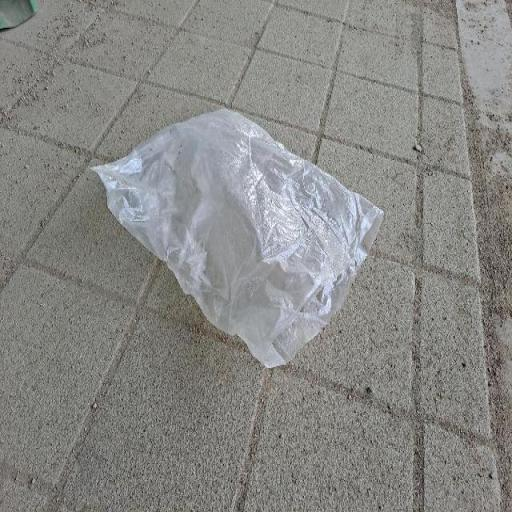plastic-bag: (94, 104, 387, 372)
